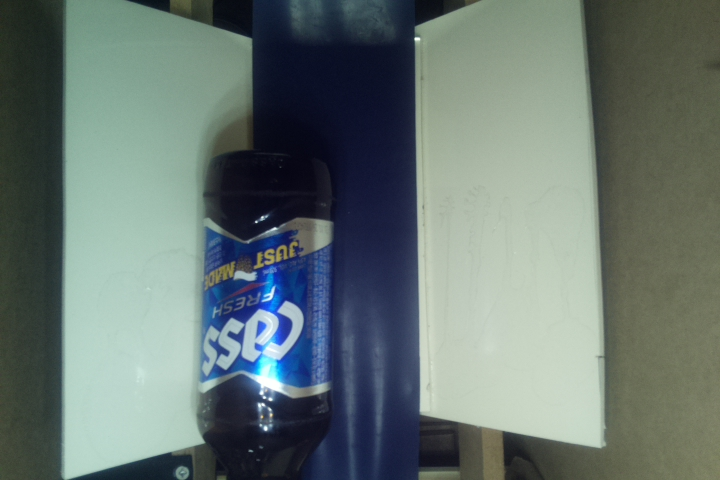makju: (201, 150, 335, 480)
